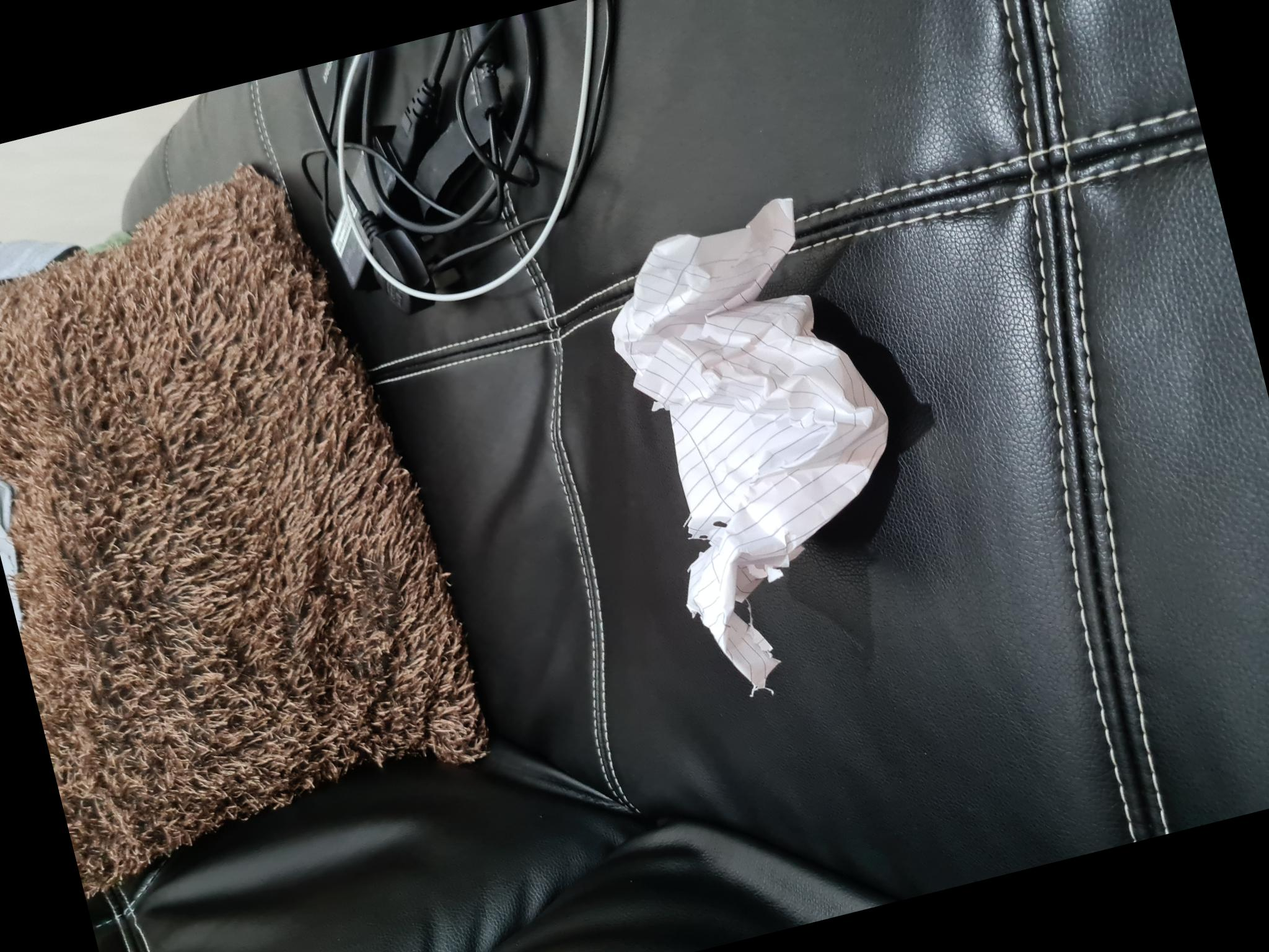Kertas: (311, 647, 796, 921)
